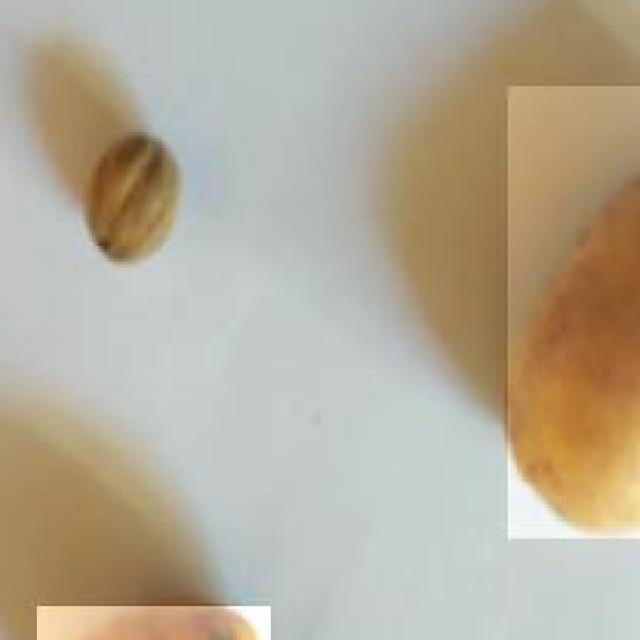potato: (504, 83, 640, 538)
